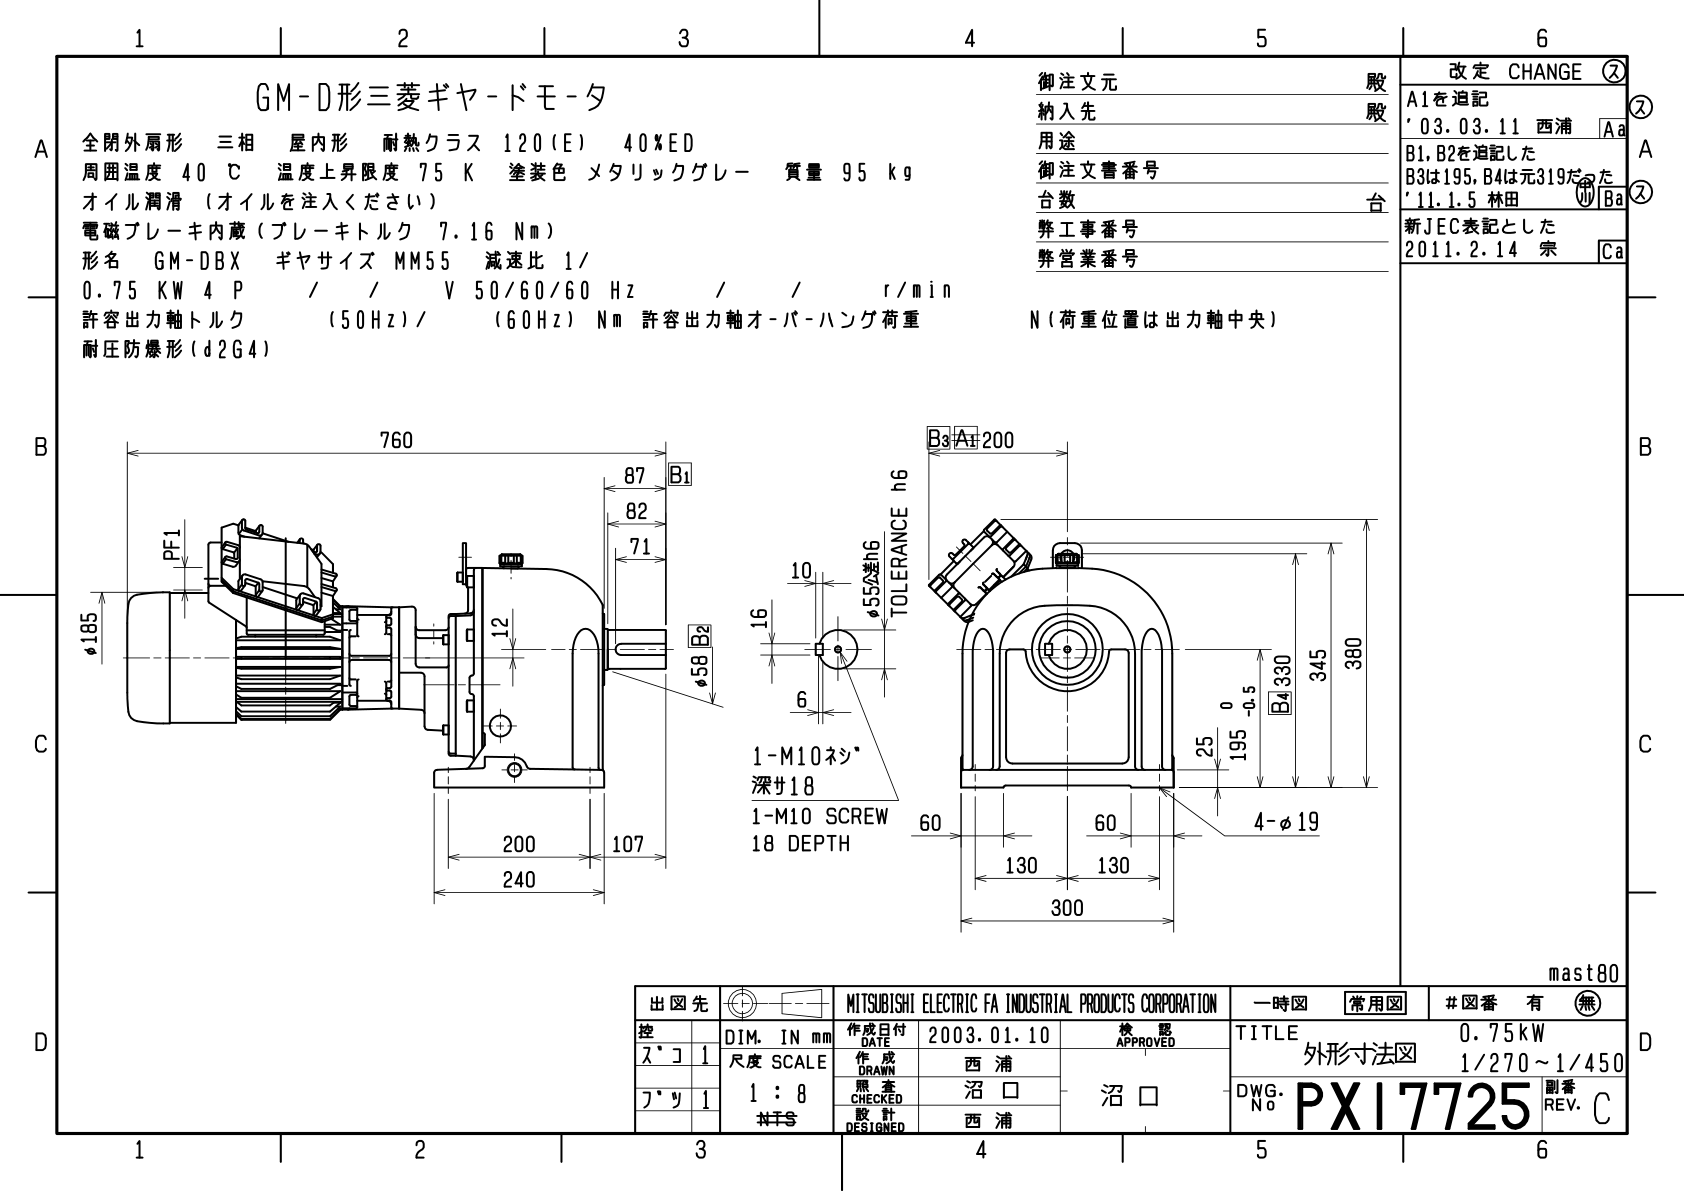GM_D_耐圧屋内_三相_脚: (64, 400, 1383, 967)
